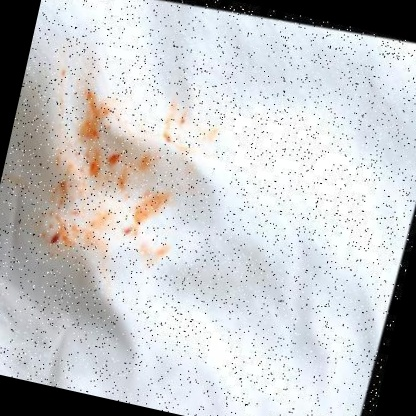kimchi: (0, 67, 232, 305), (73, 88, 122, 156), (78, 151, 105, 190), (35, 225, 66, 258), (103, 143, 126, 179), (162, 129, 179, 148), (120, 224, 136, 238)
